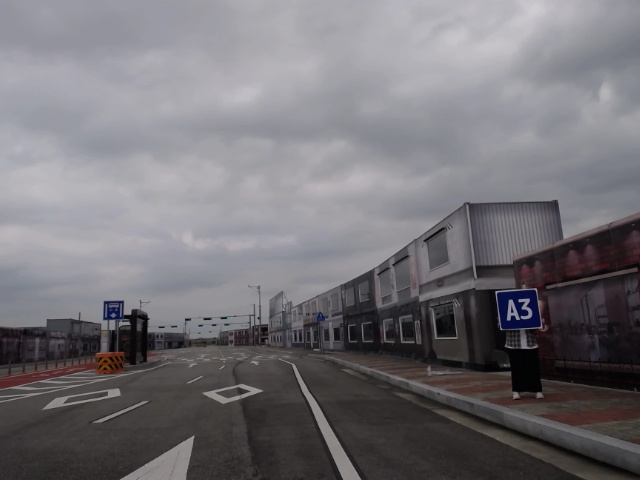delivery_a3: (496, 289, 542, 330)
